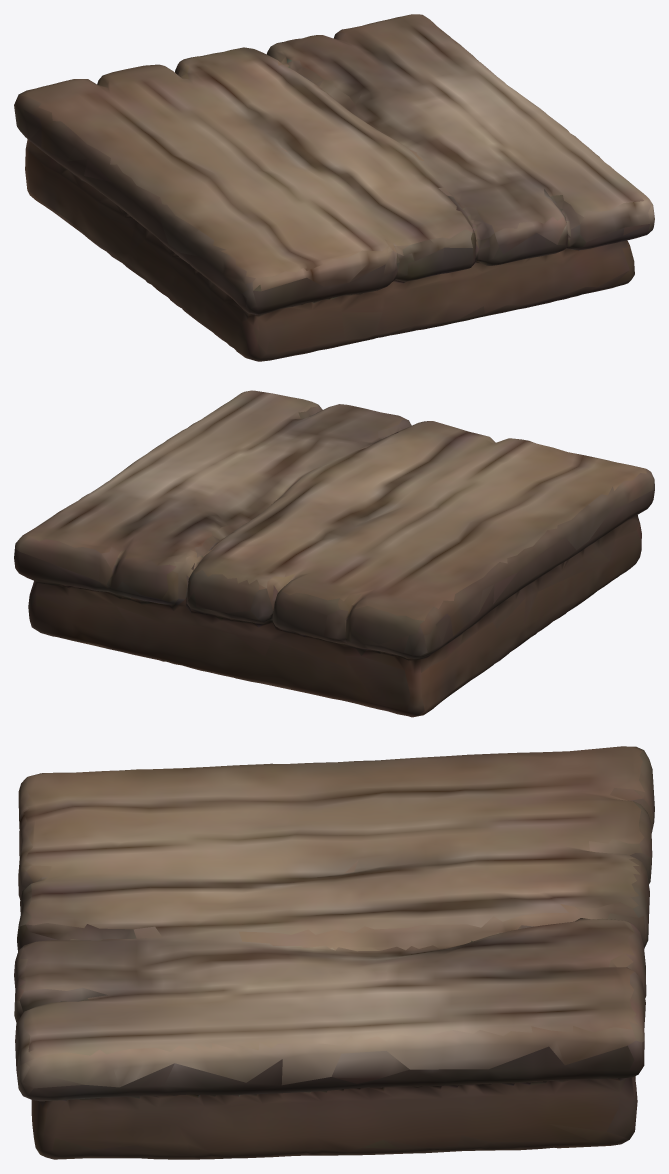
Rendered from m02_deque_tabuas.glb.
3 views of the same model, one above another, from view 1: azimuth 30°, elevation 25°; view 2: azimuth 150°, elevation 25°; view 3: azimuth 270°, elevation 25° (orthographic). The views are drawn at different scales.
Visible parts, largest first — view 1: m02_deque_tabuas; view 2: m02_deque_tabuas; view 3: m02_deque_tabuas.
Part boxes in pixels (bbox=[...]): m02_deque_tabuas: bbox=[14, 14, 654, 361]; m02_deque_tabuas: bbox=[14, 390, 654, 717]; m02_deque_tabuas: bbox=[14, 746, 654, 1159].
Bounding box in the file's own units: 0.9762 × 0.2797 × 0.9829.
1 material, 1 textured.
